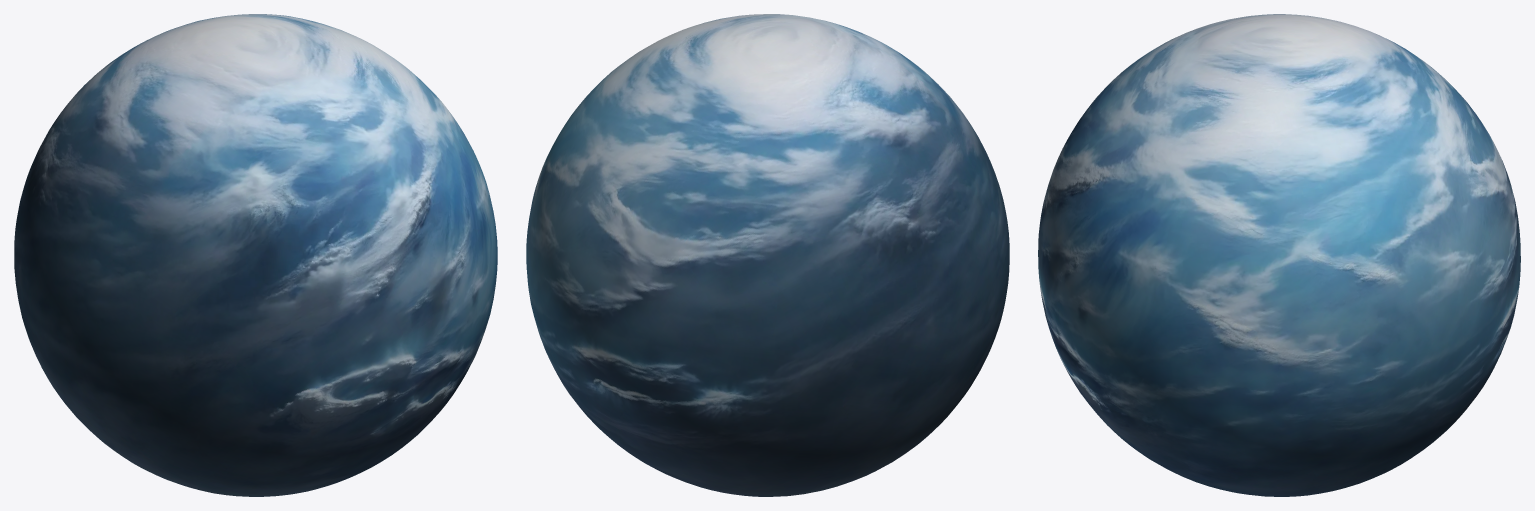
File: water_planet_4.glb
The picture shows the model from 3 angles, left to right: view 1: azimuth 30°, elevation 25°; view 2: azimuth 150°, elevation 25°; view 3: azimuth 270°, elevation 25°; orthographic projection.
Visible parts, largest first — view 1: Mesh_0.047; view 2: Mesh_0.047; view 3: Mesh_0.047.
Boxes of the visible parts, x1,y1,x2,y2 form: Mesh_0.047: [14, 14, 497, 496]; Mesh_0.047: [526, 14, 1009, 496]; Mesh_0.047: [1038, 14, 1520, 496].
Size of the model in its own units: 2 by 2 by 2.
1 material, 1 textured.
